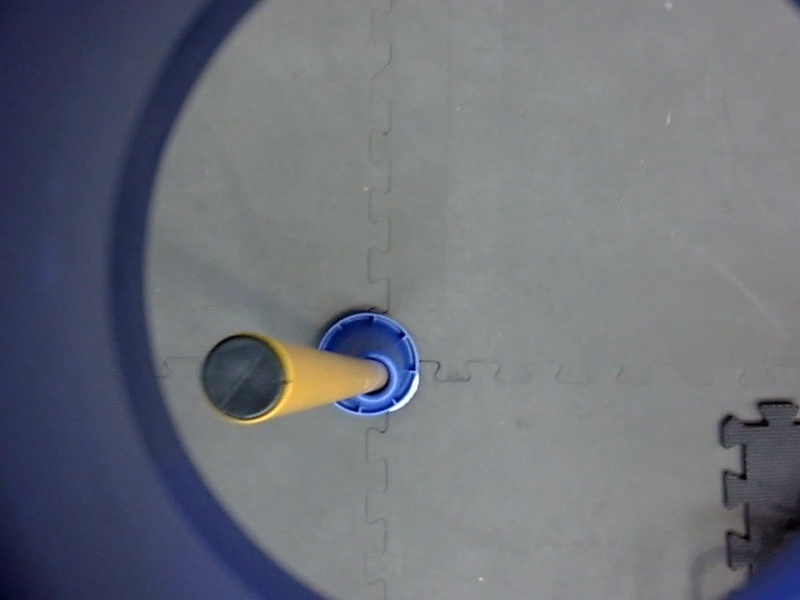tip: (194, 326, 300, 434)
